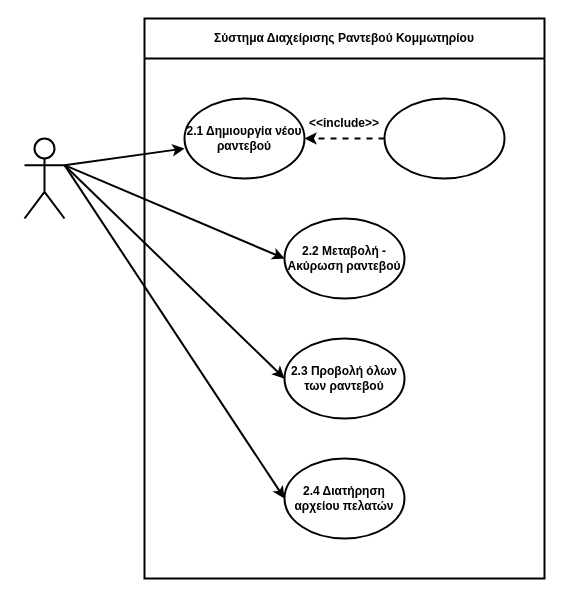
The diagram is 563 pixels wide and 596 high, and some of its shapes have lost their labels. The box of each missing label's shape, as (x1, y1, x2, y2) in pixels:
Secretary: (23, 137, 65, 219)
Έλεγχος διαθεσιμότητας: (383, 97, 505, 179)
